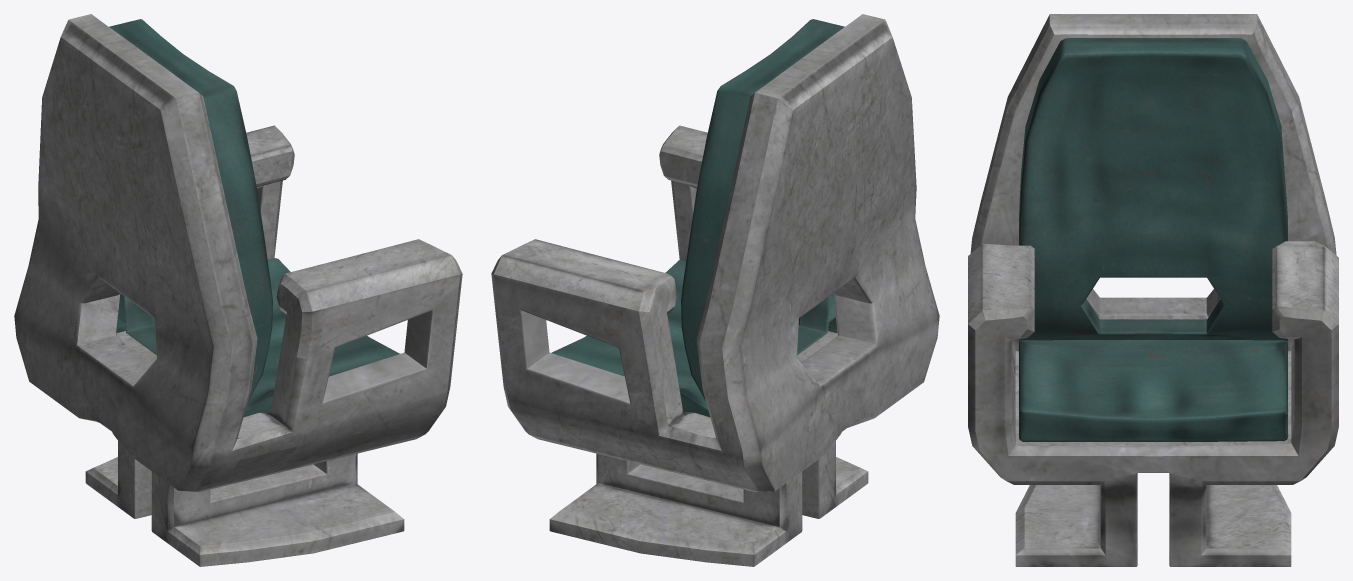
The model's file is greenChair.fbx.
3 renders of one model, left to right at view 1: azimuth 30°, elevation 25°; view 2: azimuth 150°, elevation 25°; view 3: azimuth 270°, elevation 25°, orthographic. The views are drawn at different scales.
Visible parts, largest first — view 1: chair1; view 2: chair1; view 3: chair1.
Part boxes in pixels (x1,y1,x2,y2): chair1: (14,14,462,566); chair1: (491,14,939,566); chair1: (968,14,1338,566).
Bounding box in the file's own units: 66.88 × 113 × 83.6.
1 material, 1 textured.
